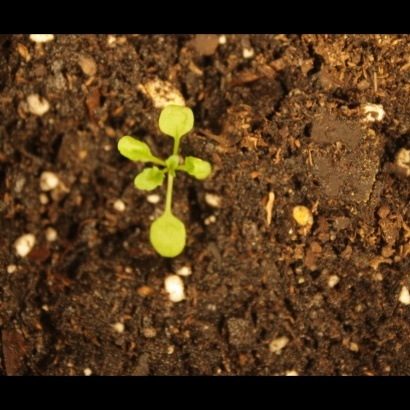leaf: (147, 207, 195, 261), (114, 129, 160, 166), (155, 100, 197, 139), (183, 151, 218, 187), (133, 165, 166, 201)
